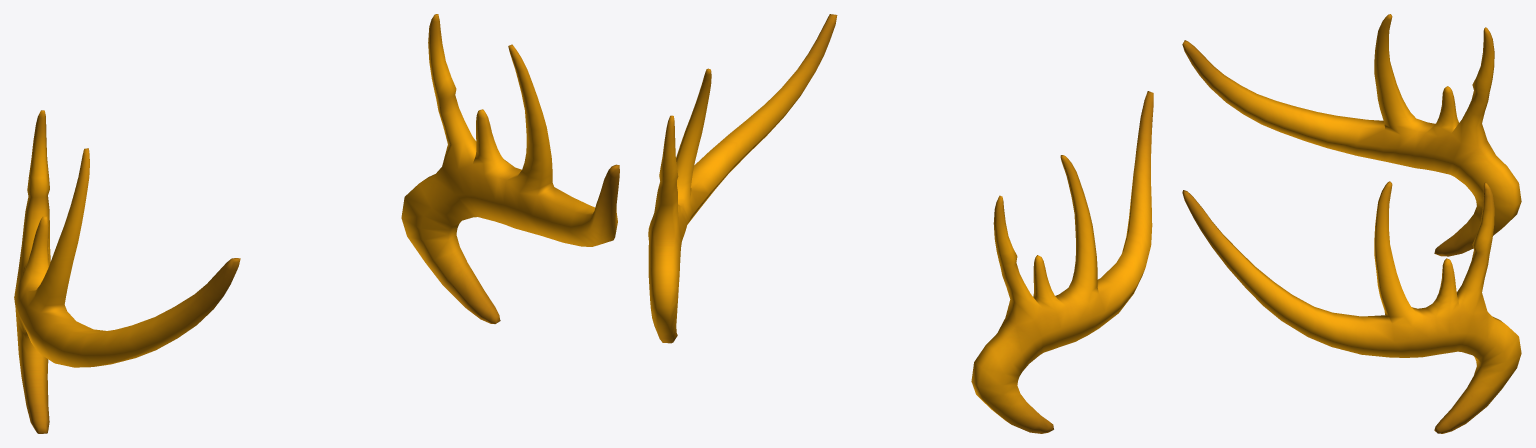
Rendered from GoldAntlers.glb.
The picture shows the model from 3 angles, left to right: view 1: azimuth 30°, elevation 25°; view 2: azimuth 150°, elevation 25°; view 3: azimuth 270°, elevation 25°; orthographic projection. The views are drawn at different scales.
Parts seen in each view (by area): view 1: Cube; view 2: Cube; view 3: Cube.
Part boxes in pixels (x1,y1,x2,y2): Cube: [14, 14, 619, 433]; Cube: [648, 14, 1153, 433]; Cube: [1182, 14, 1521, 433].
Size of the model in its own units: 0.2203 by 0.1186 by 0.1484.
1 material, 1 textured.
